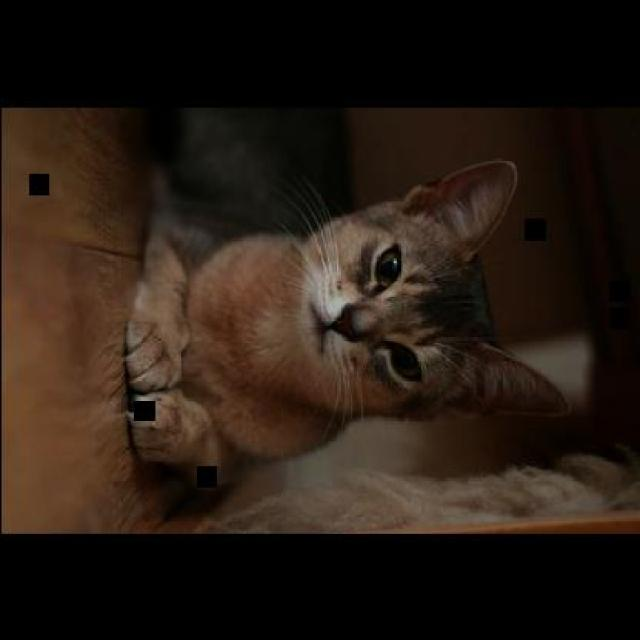unauthorized: (122, 154, 570, 508)
